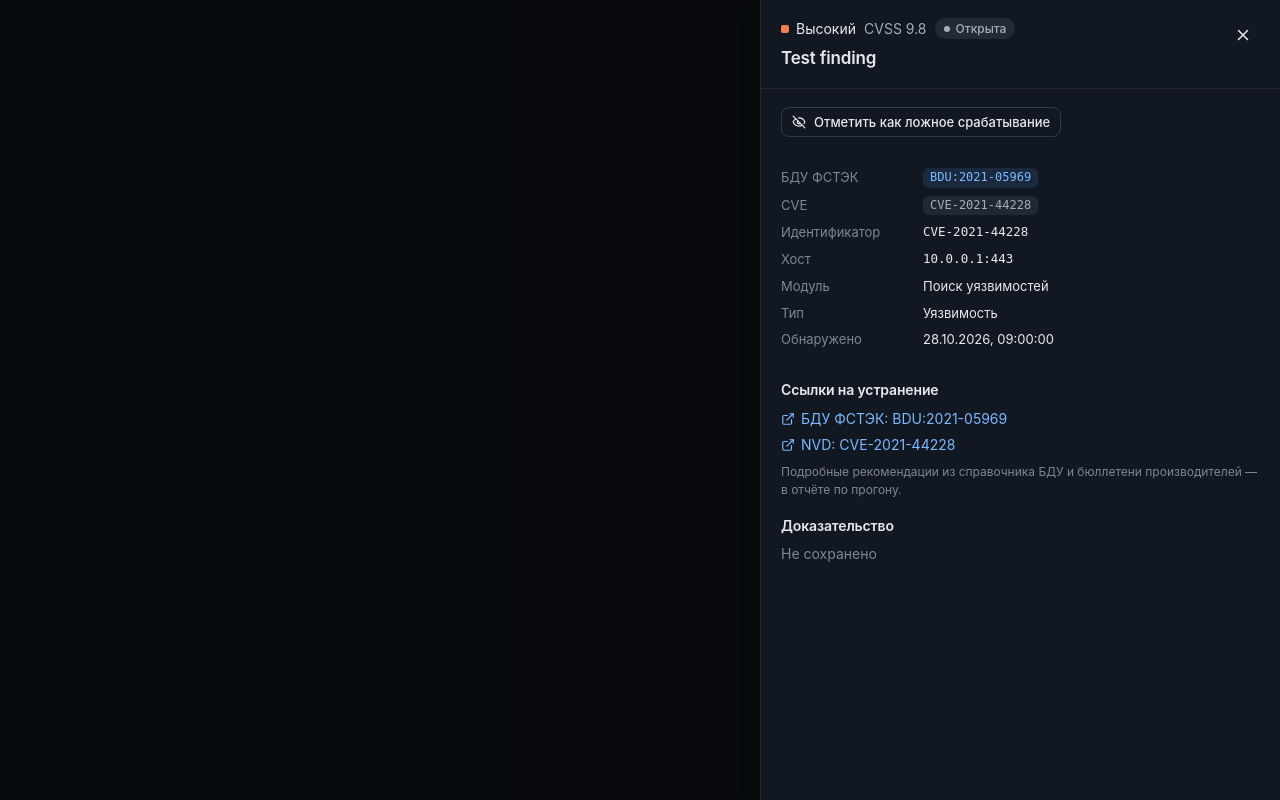
отмечает находку как ложное срабатывание с обоснованием и снимает отметку
Click the button "Отметить как ложное срабатывание".
click(921, 122)  # box [781,107,1061,137]
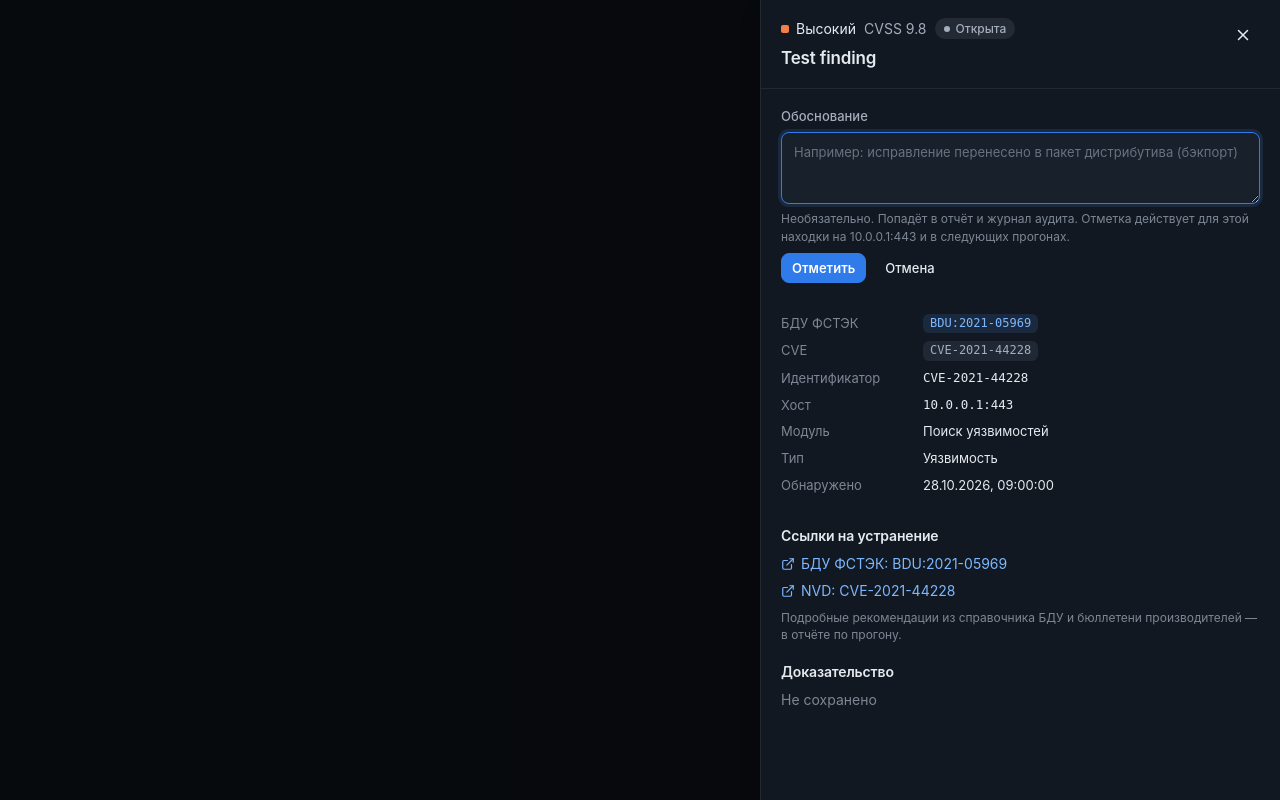
Type "бэкпорт в пакете" into the text box labelled "Обоснование".
click(1020, 168); type("бэкпорт в пакете")  # box [781,132,1260,204]
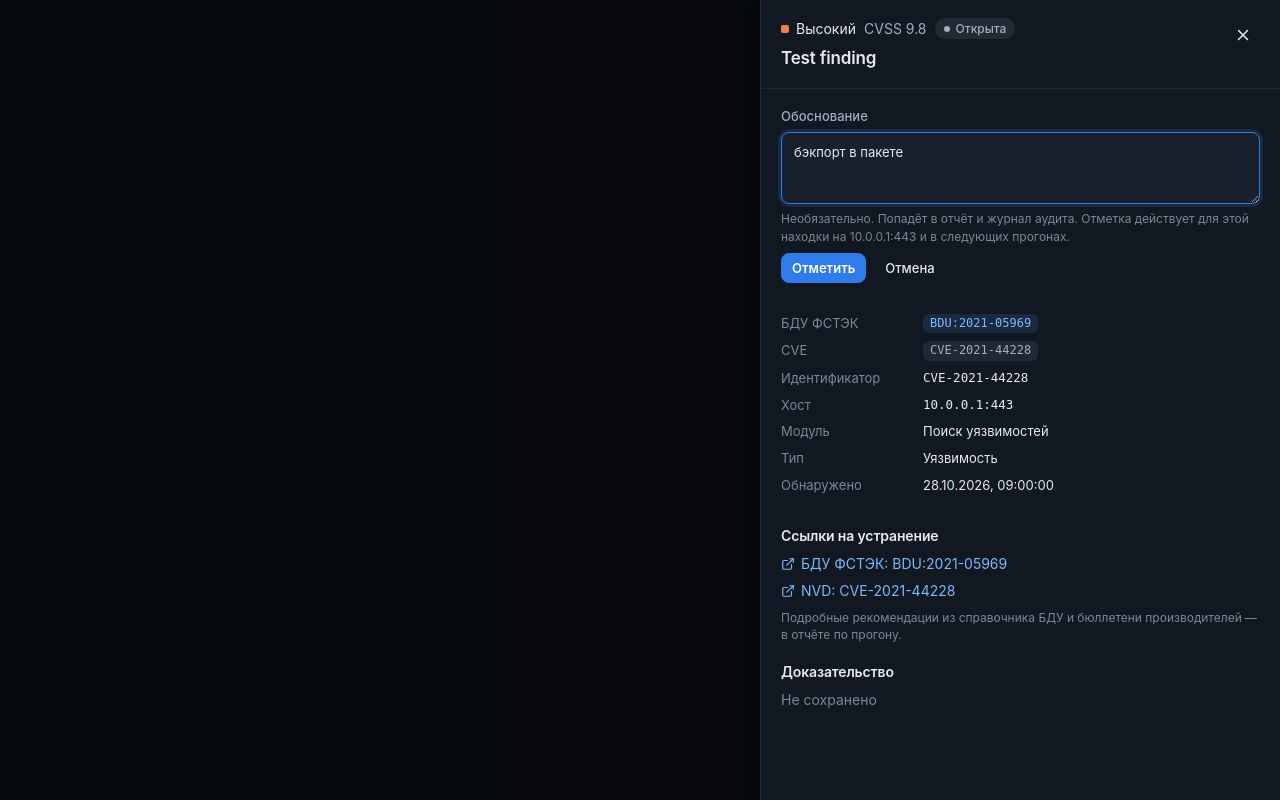
Click the button "Отметить".
click(824, 268)  # box [781,253,866,283]
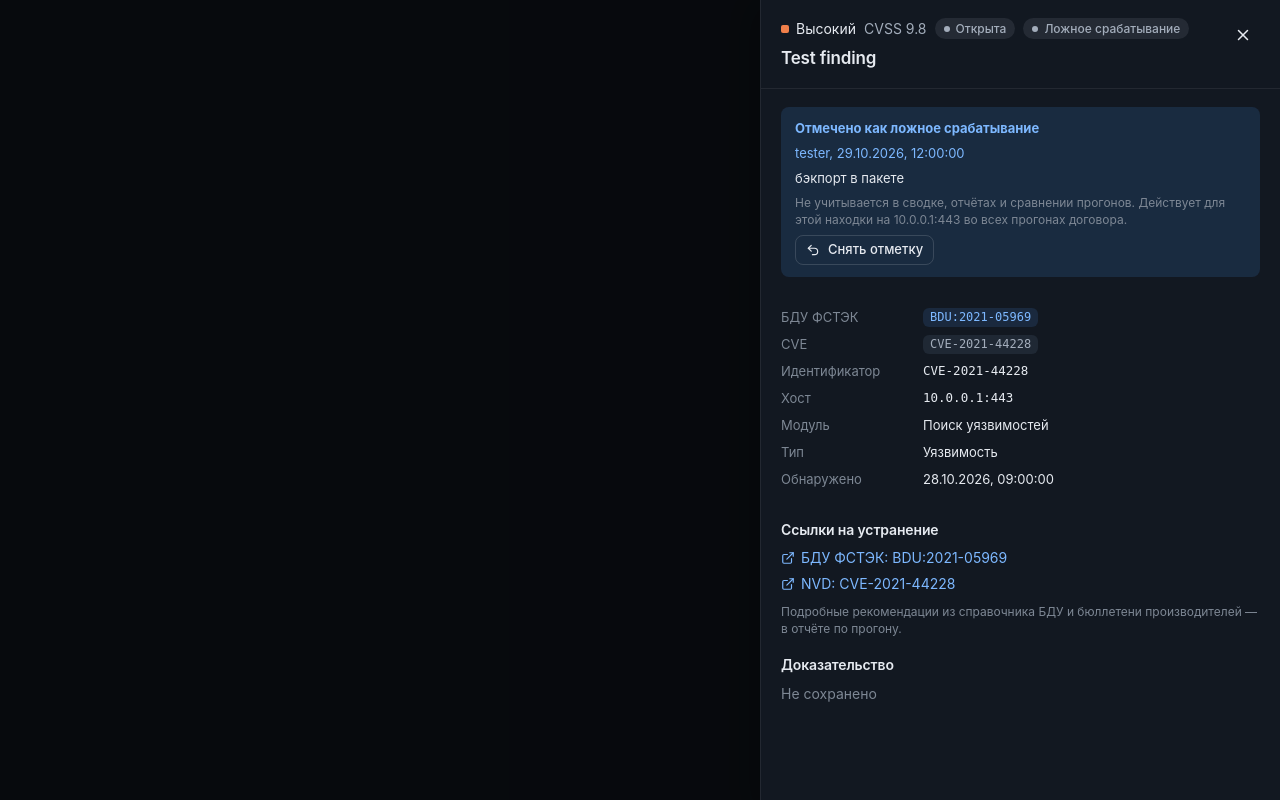
Result: the text "Отмечено как ложное срабатывание" is shown at [795,119,1039,138]
Result: the text "бэкпорт в пакете" is shown at [795,169,904,188]
Click the button "Снять отметку".
click(865, 250)  # box [795,235,934,265]
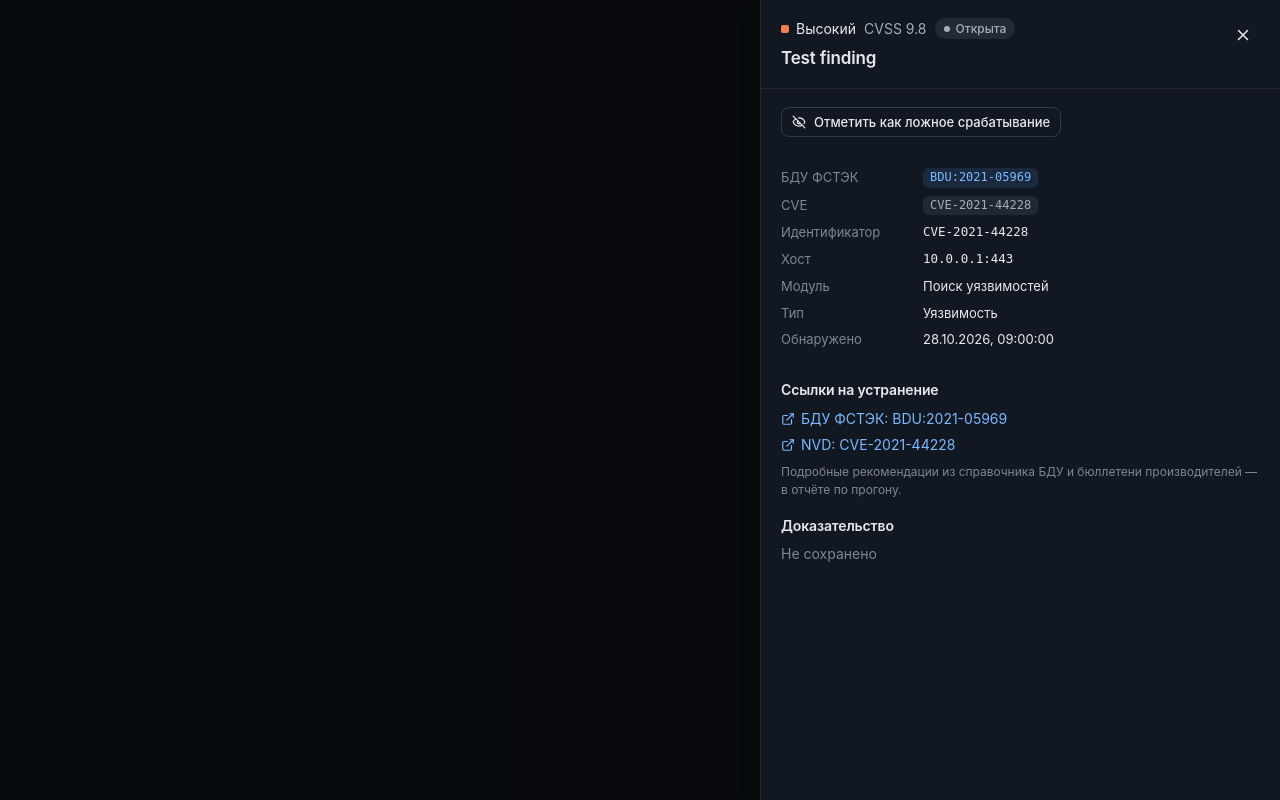
Result: the button "Отметить как ложное срабатывание" is shown at [781,107,1061,137]
